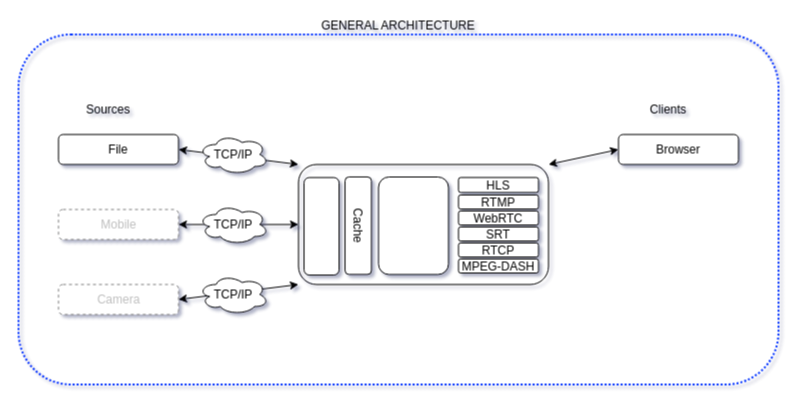
This 802x408 diagram has some shape labels left out. Each missing label, with the centre of its shape:
"Format converter" goes at [321,226].
"Streaming Server" goes at [413,225].
